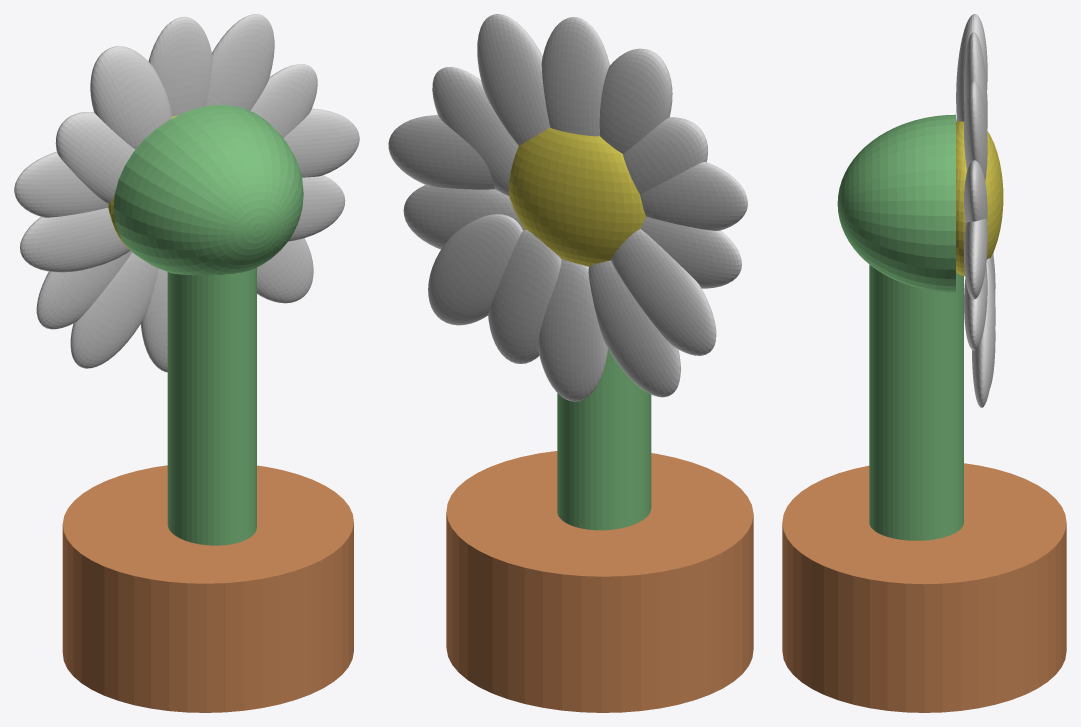
The model's file is Super Jarv-Amur.glb.
The picture shows the model from 3 angles, left to right: view 1: azimuth 30°, elevation 25°; view 2: azimuth 150°, elevation 25°; view 3: azimuth 270°, elevation 25°; orthographic projection. The views are drawn at different scales.
Visible parts, largest first — view 1: Mesh_Mesh_head_geo.001_lambert2SG.001; view 2: Mesh_Mesh_head_geo.001_lambert2SG.001; view 3: Mesh_Mesh_head_geo.001_lambert2SG.001.
Part boxes in pixels (<box>): Mesh_Mesh_head_geo.001_lambert2SG.001: <box>14,14,359,712</box>; Mesh_Mesh_head_geo.001_lambert2SG.001: <box>388,14,753,712</box>; Mesh_Mesh_head_geo.001_lambert2SG.001: <box>782,14,1066,712</box>.
Size of the model in its own units: 0.0499 by 0.086 by 0.036.
